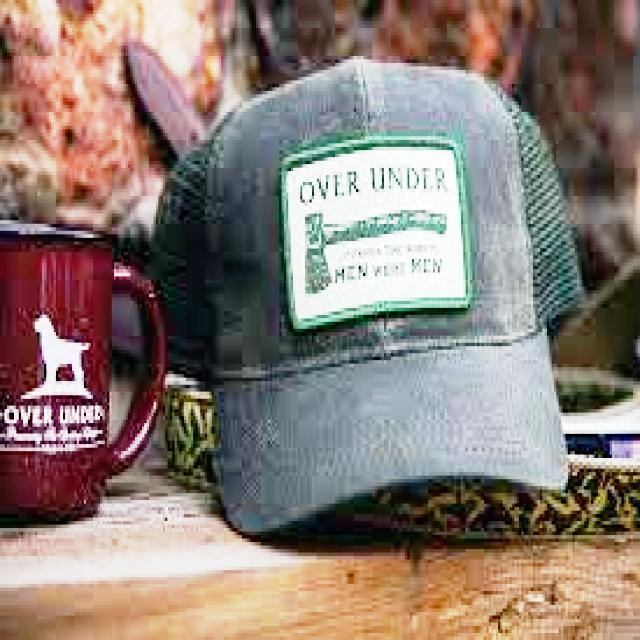TOPI: (142, 49, 586, 535)
